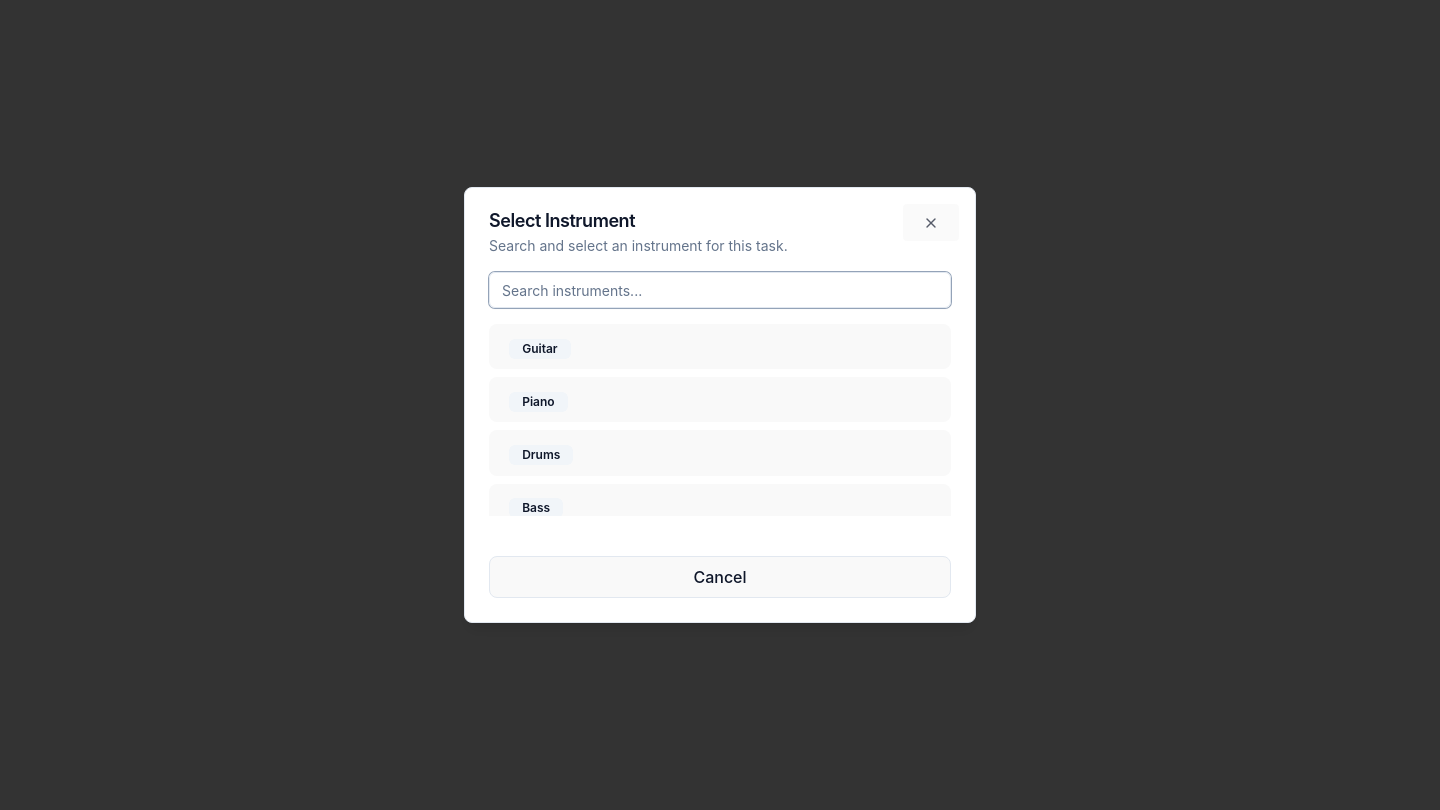
Test: InstrumentModal › handles case-insensitive search
The width and height of the screenshot is (1440, 810).
In the field with placeholder "Search instruments...": coordinates (720, 290) [489, 272, 951, 308], type "GUITAR"
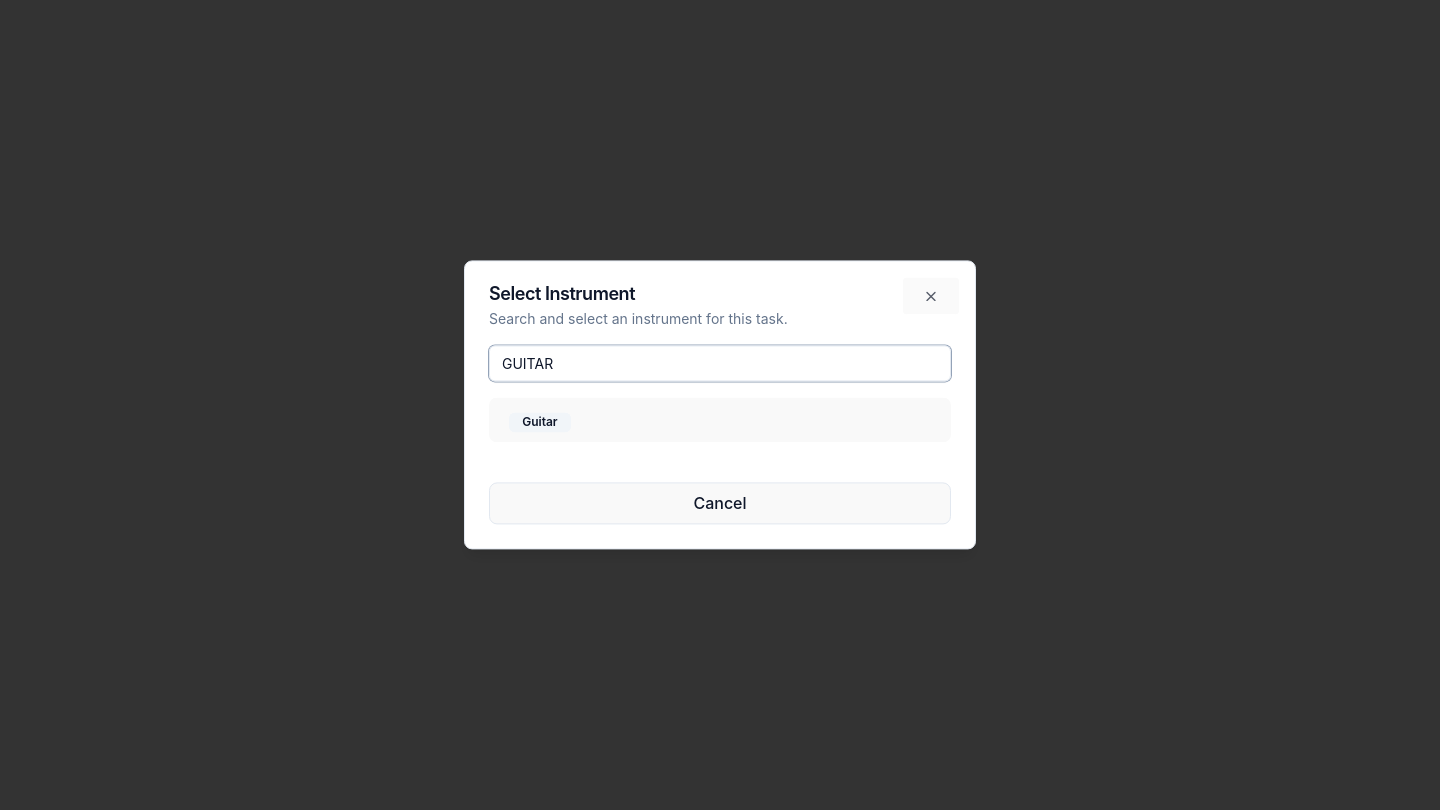
Expected: the text "Guitar" is shown, [509, 412, 571, 432]
Now the button "Piano" is gone
